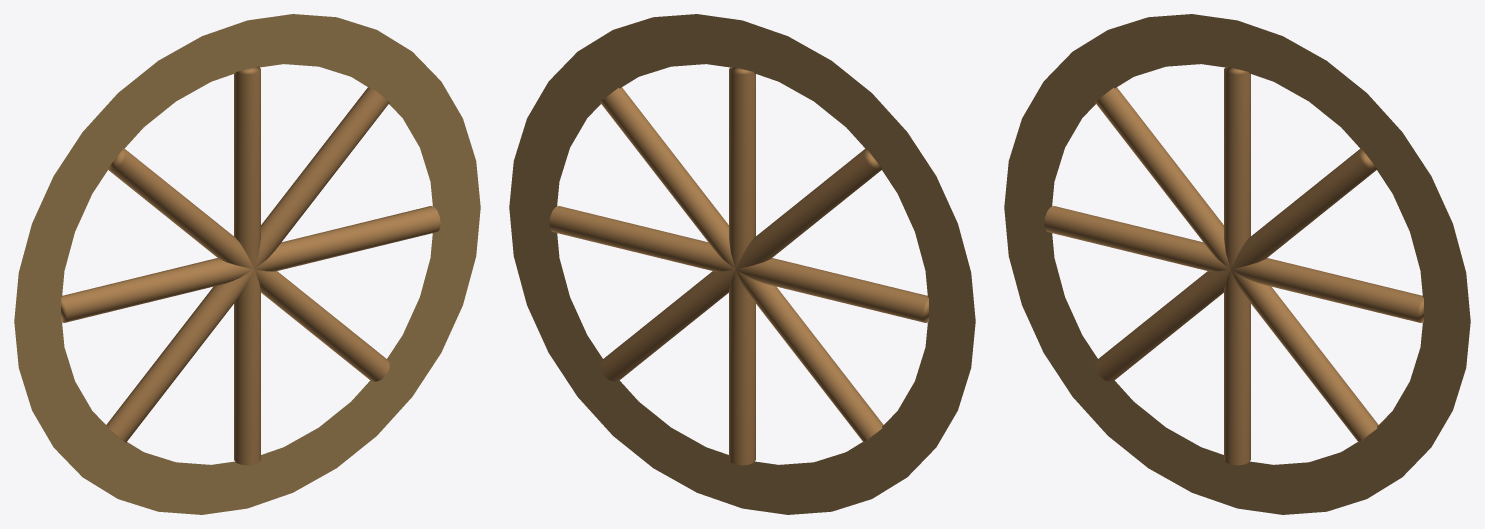
The model's file is broken_gear.glb.
3 views of the same model, side by side, from view 1: azimuth 30°, elevation 25°; view 2: azimuth 150°, elevation 25°; view 3: azimuth 330°, elevation 25° (orthographic).
Parts seen in each view (by area): view 1: outer_ring, spoke (×8); view 2: outer_ring, spoke (×8); view 3: outer_ring, spoke (×8).
Part boxes in pixels (x1=…): outer_ring: x1=14, y1=14, x2=480, y2=514; spoke (×8): x1=61, y1=66, x2=440, y2=465; outer_ring: x1=509, y1=14, x2=975, y2=514; spoke (×8): x1=549, y1=66, x2=928, y2=465; outer_ring: x1=1004, y1=14, x2=1470, y2=514; spoke (×8): x1=1044, y1=66, x2=1423, y2=465.
Bounding box in the file's own units: 2 × 2 × 0.1.
